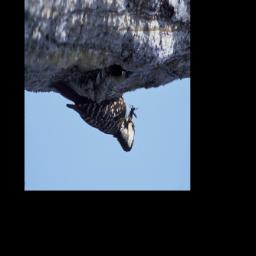Woodpecker: (47, 63, 140, 154)
